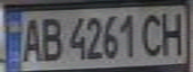1: (118, 11, 142, 60)
2: (84, 12, 106, 61)
4: (63, 12, 87, 61)
6: (103, 11, 124, 60)
A: (18, 14, 45, 63)
B: (36, 14, 66, 63)
C: (139, 10, 169, 57)
H: (157, 8, 190, 56)
